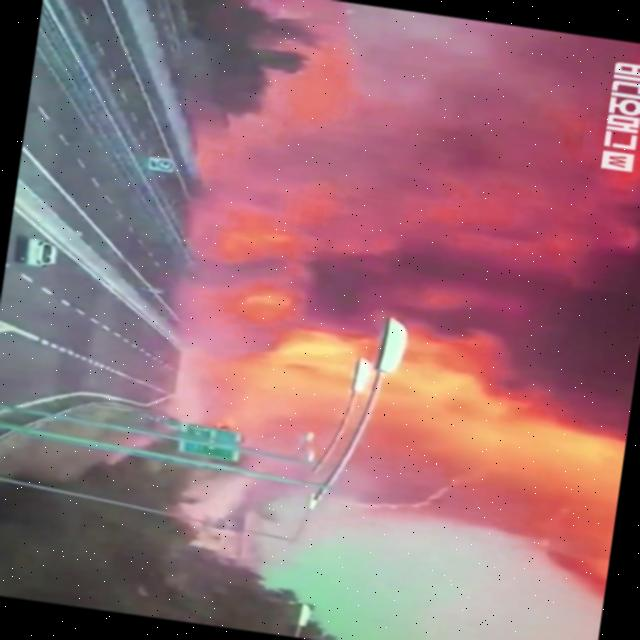explosion: (108, 0, 640, 634)
